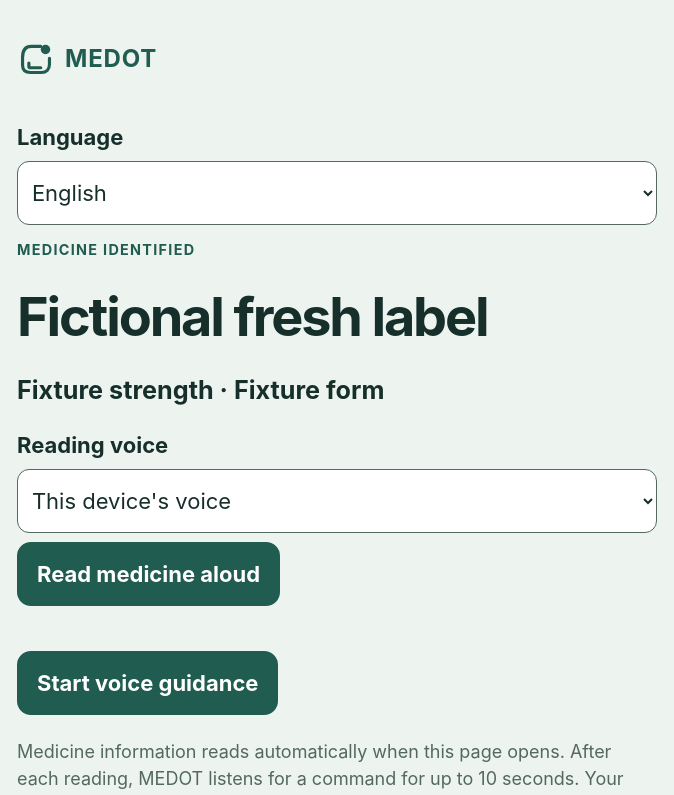
Test: localizes patient details without translating the stored instruction when speech is unavailable
Select "বাংলা" in the dropdown labelled "Language" at (337, 194), box x1=17 y1=162 x2=657 y2=226
(page scrolled)
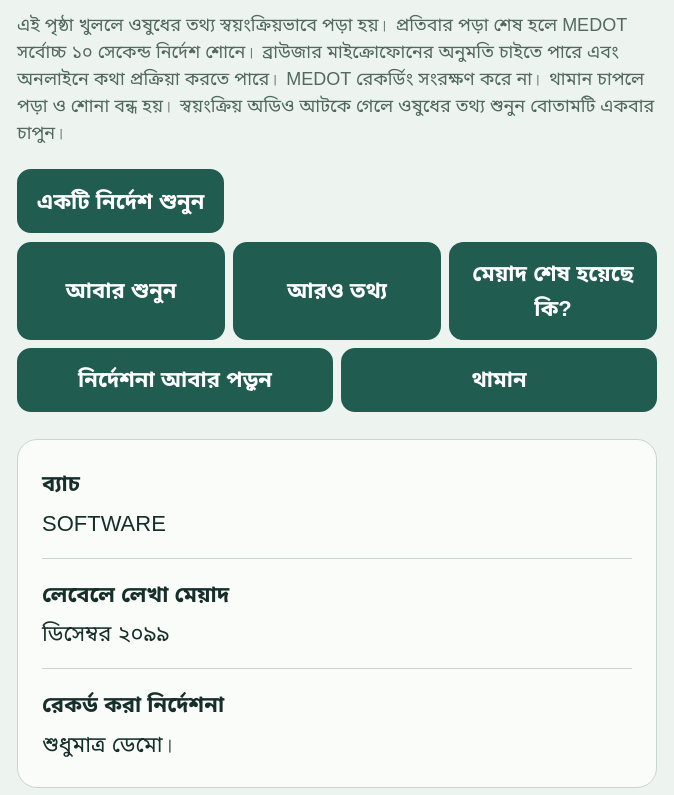
expect the text "শুধুমাত্র ডেমো।" is shown: met, box x1=42 y1=732 x2=178 y2=757
